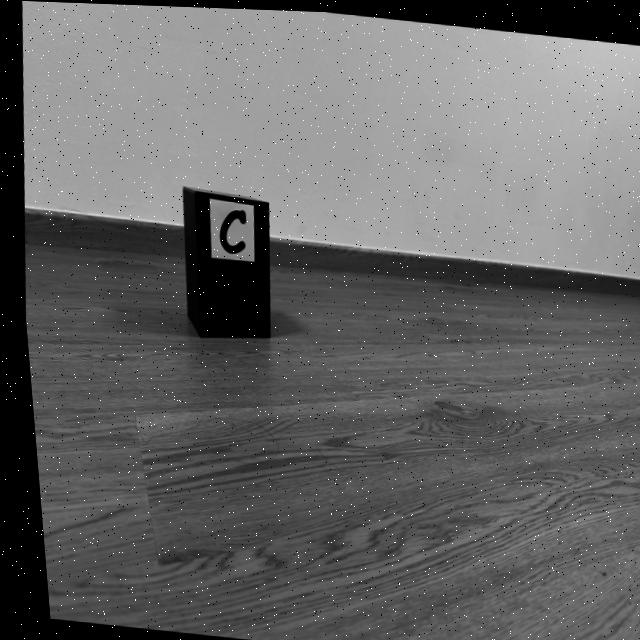C: (216, 207, 242, 252)
